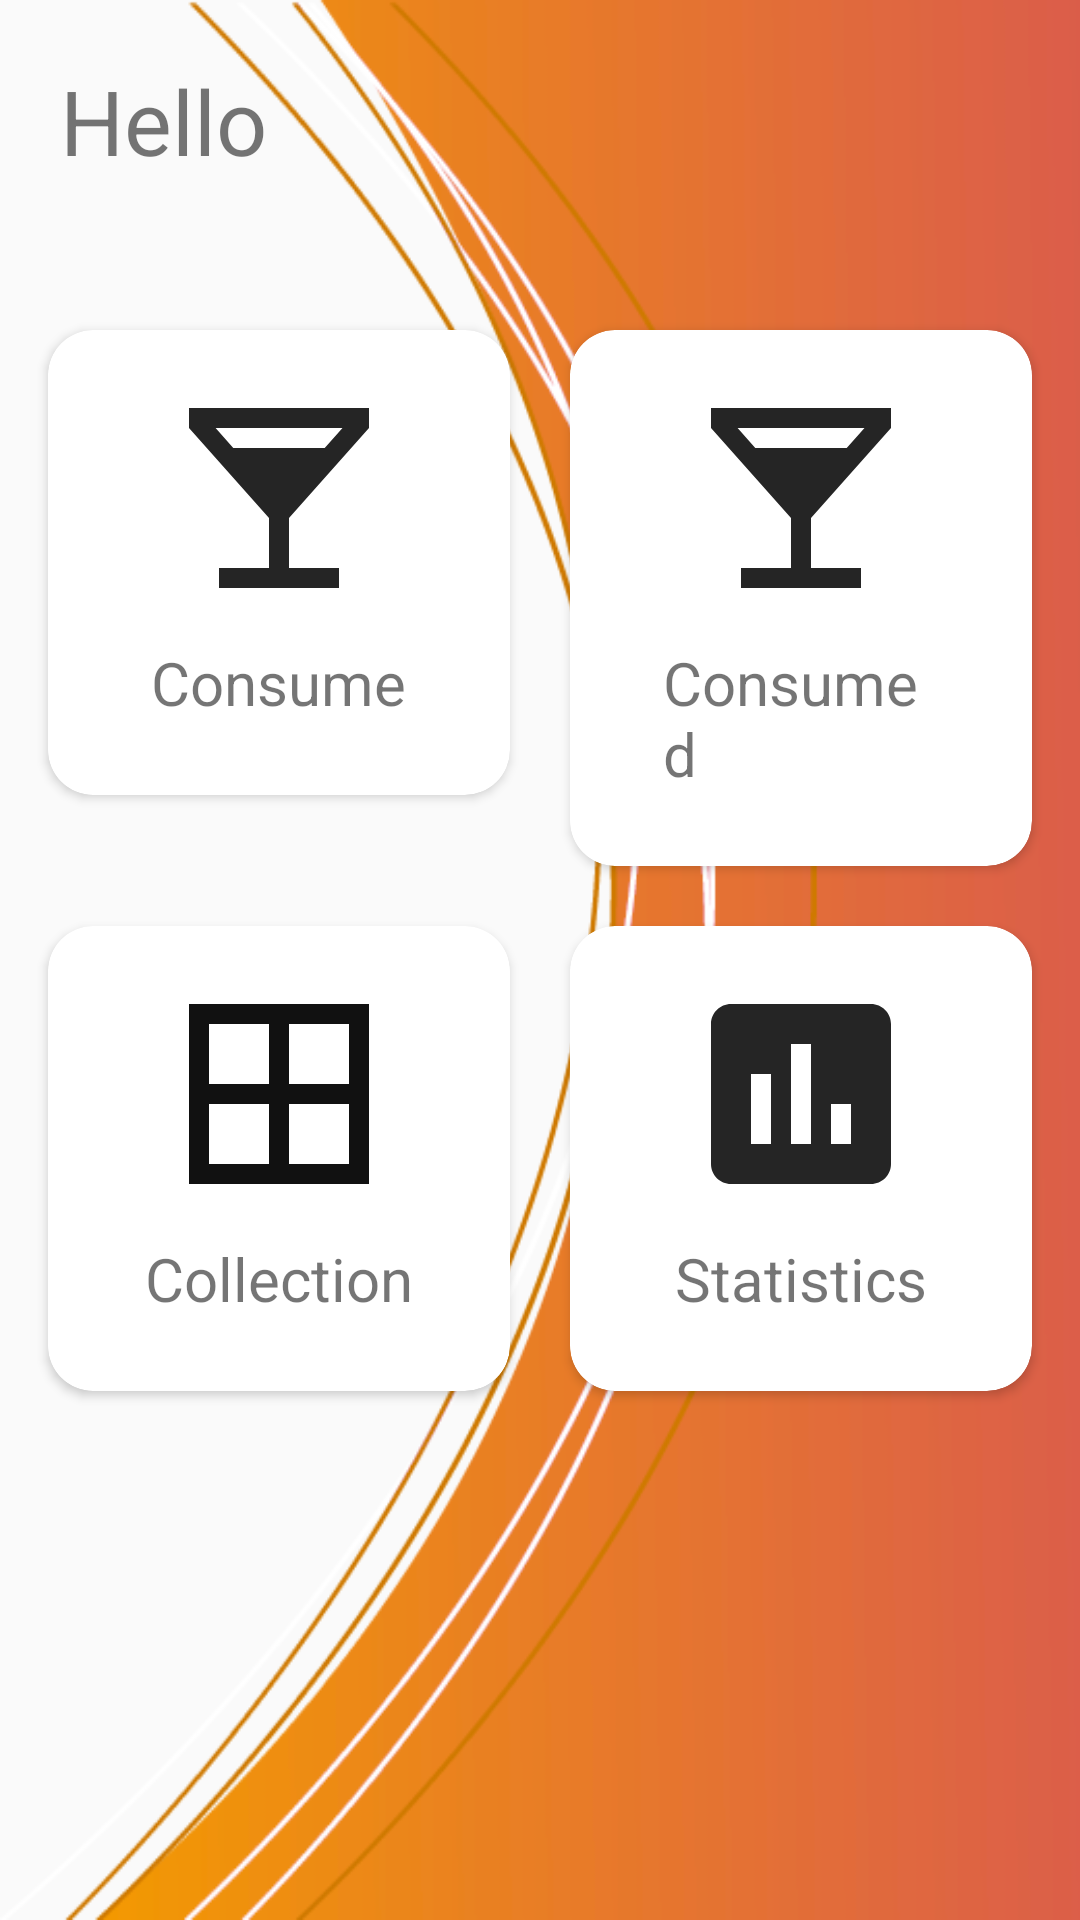

Where icons sit on this 1080px×1920px app screen, as (x1, y1, x2, y2):
bar: (189, 408, 369, 588), (711, 408, 891, 588)
table: (189, 1004, 369, 1184)
